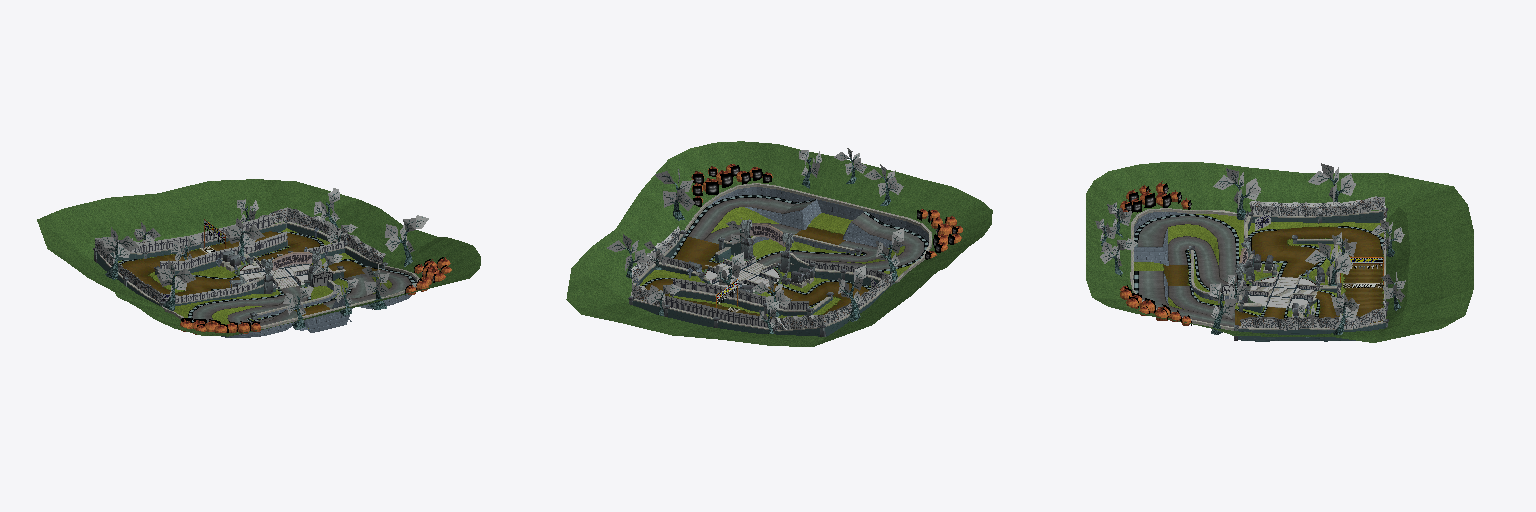
The picture shows the model from 3 angles: view 1: azimuth 30°, elevation 25°; view 2: azimuth 150°, elevation 25°; view 3: azimuth 270°, elevation 25°; orthographic projection.
Parts seen in each view (by area): view 1: commonShape107_009, groupShape135_000, polySurfaceShape107_008, commonShape107_005, polySurfaceShape107_007, commonShape107_014, commonShape107_012, polySurfaceShape107_004, commonShape107_013, commonShape107_003, groupShape135_001, commonShape107_016 (+3 smaller); view 2: commonShape107_009, groupShape135_000, polySurfaceShape107_008, commonShape107_013, polySurfaceShape107_004, commonShape107_012, commonShape107_003, commonShape107_005, polySurfaceShape107_007, commonShape107_014, commonShape107_016, groupShape135_001 (+3 smaller); view 3: commonShape107_009, polySurfaceShape107_008, groupShape135_000, polySurfaceShape107_007, commonShape107_014, polySurfaceShape107_004, commonShape107_012, commonShape107_003, polySurfaceShape107_006, polySurfaceShape107_001, commonShape107_016, groupShape135_001 (+4 smaller).
Boxes of the visible parts, x1=… form: commonShape107_009: x1=37, y1=179, x2=480, y2=336; groupShape135_000: x1=100, y1=188, x2=428, y2=314; polySurfaceShape107_008: x1=192, y1=270, x2=411, y2=325; commonShape107_005: x1=140, y1=216, x2=344, y2=302; polySurfaceShape107_007: x1=121, y1=231, x2=380, y2=315; commonShape107_014: x1=95, y1=207, x2=385, y2=301; commonShape107_012: x1=97, y1=224, x2=381, y2=305; polySurfaceShape107_004: x1=118, y1=228, x2=391, y2=328; commonShape107_013: x1=216, y1=227, x2=416, y2=337; commonShape107_003: x1=98, y1=222, x2=419, y2=328; groupShape135_001: x1=105, y1=202, x2=412, y2=329; commonShape107_016: x1=93, y1=220, x2=387, y2=319; commonShape107_009: x1=566, y1=141, x2=992, y2=346; groupShape135_000: x1=607, y1=148, x2=903, y2=327; polySurfaceShape107_008: x1=688, y1=197, x2=923, y2=269; commonShape107_013: x1=634, y1=187, x2=928, y2=288; polySurfaceShape107_004: x1=640, y1=207, x2=913, y2=317; commonShape107_012: x1=633, y1=235, x2=889, y2=336; commonShape107_003: x1=631, y1=183, x2=931, y2=331; commonShape107_005: x1=659, y1=257, x2=888, y2=327; polySurfaceShape107_007: x1=642, y1=226, x2=868, y2=318; commonShape107_014: x1=631, y1=226, x2=892, y2=329; commonShape107_016: x1=628, y1=219, x2=893, y2=336; groupShape135_001: x1=624, y1=158, x2=897, y2=333; commonShape107_009: x1=1086, y1=162, x2=1473, y2=342; polySurfaceShape107_008: x1=1138, y1=216, x2=1250, y2=326; groupShape135_000: x1=1095, y1=163, x2=1405, y2=325; polySurfaceShape107_007: x1=1162, y1=226, x2=1383, y2=325; commonShape107_014: x1=1240, y1=196, x2=1386, y2=330; polySurfaceShape107_004: x1=1134, y1=214, x2=1383, y2=316; commonShape107_012: x1=1238, y1=212, x2=1385, y2=341; commonShape107_003: x1=1130, y1=208, x2=1385, y2=330; polySurfaceShape107_006: x1=1343, y1=264, x2=1383, y2=307; polySurfaceShape107_001: x1=1134, y1=214, x2=1383, y2=317; commonShape107_016: x1=1189, y1=208, x2=1388, y2=340; groupShape135_001: x1=1101, y1=178, x2=1400, y2=337.
Bounding box in the file's own units: 146 × 35.23 × 155.
31 materials, 27 textured.